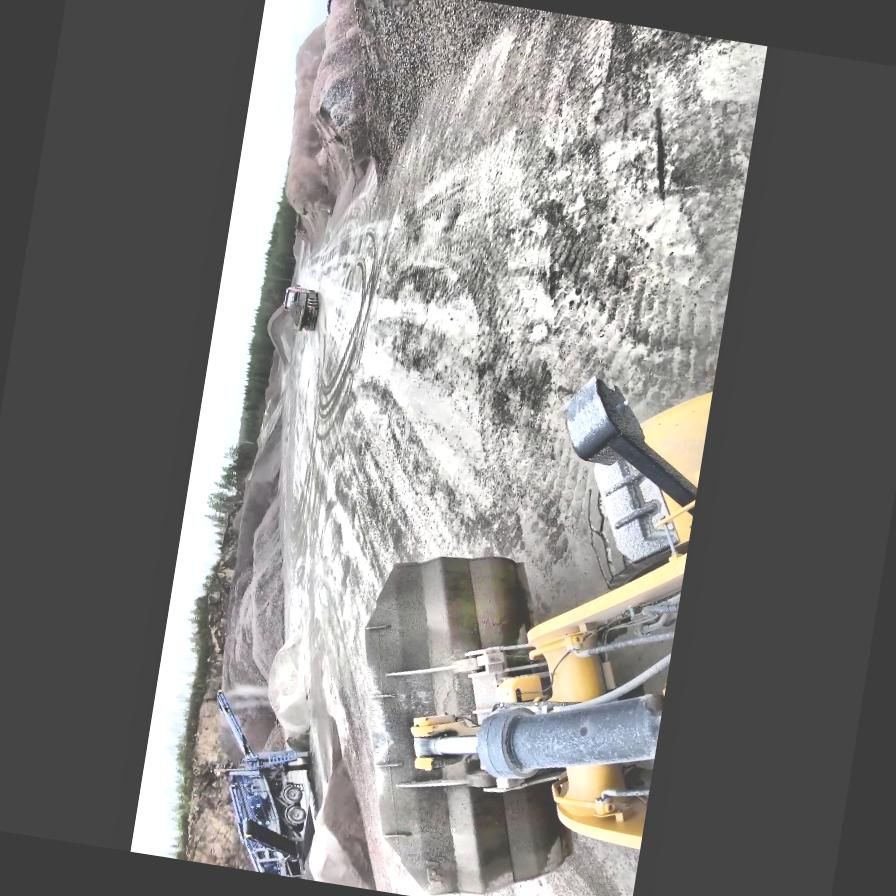anchor: (404, 707, 482, 775)
pile of gravel: (266, 0, 405, 254), (202, 440, 316, 744), (331, 0, 508, 140), (300, 742, 404, 890), (230, 426, 288, 570), (259, 624, 324, 737), (288, 13, 330, 102), (286, 189, 332, 256), (260, 298, 298, 366), (260, 352, 286, 408), (289, 230, 304, 264)
